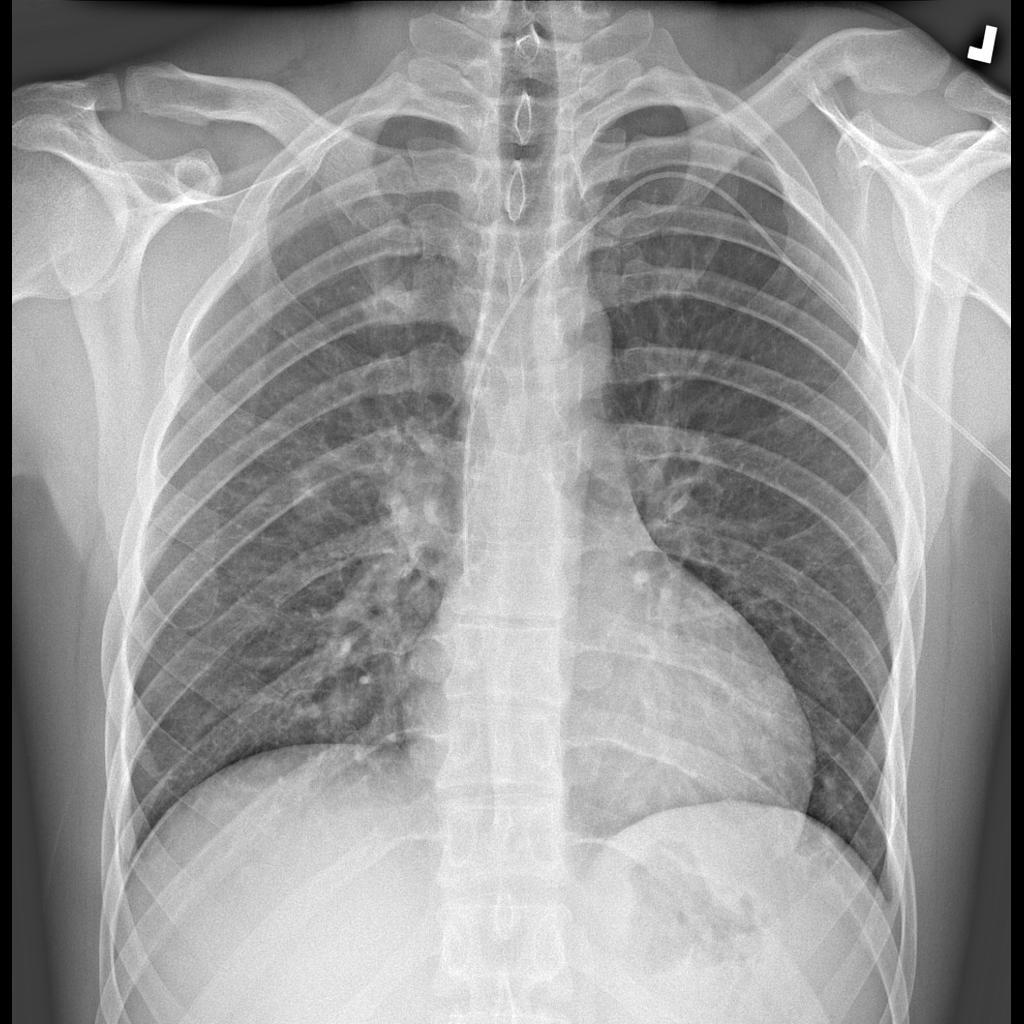Nodule: (338, 266, 421, 337), (281, 467, 340, 533)
